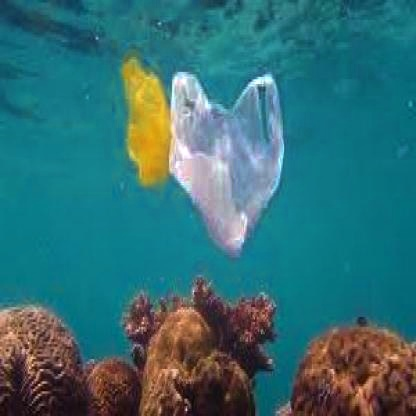pbag: (168, 70, 286, 258), (120, 57, 170, 186)
